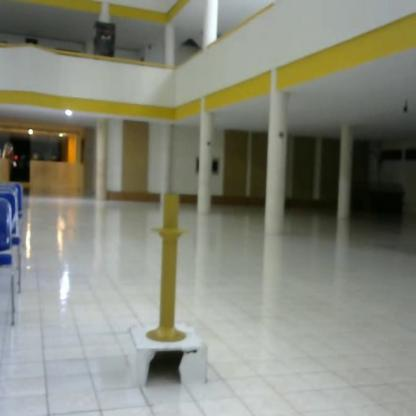pole: (138, 187, 205, 347)
